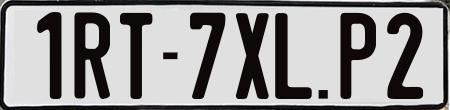1: (36, 9, 63, 97)
2: (385, 13, 427, 101)
7: (190, 11, 230, 101)
L: (275, 11, 314, 102)
P: (338, 12, 374, 100)
R: (72, 9, 114, 101)
T: (120, 11, 154, 101)
X: (233, 10, 269, 102)
